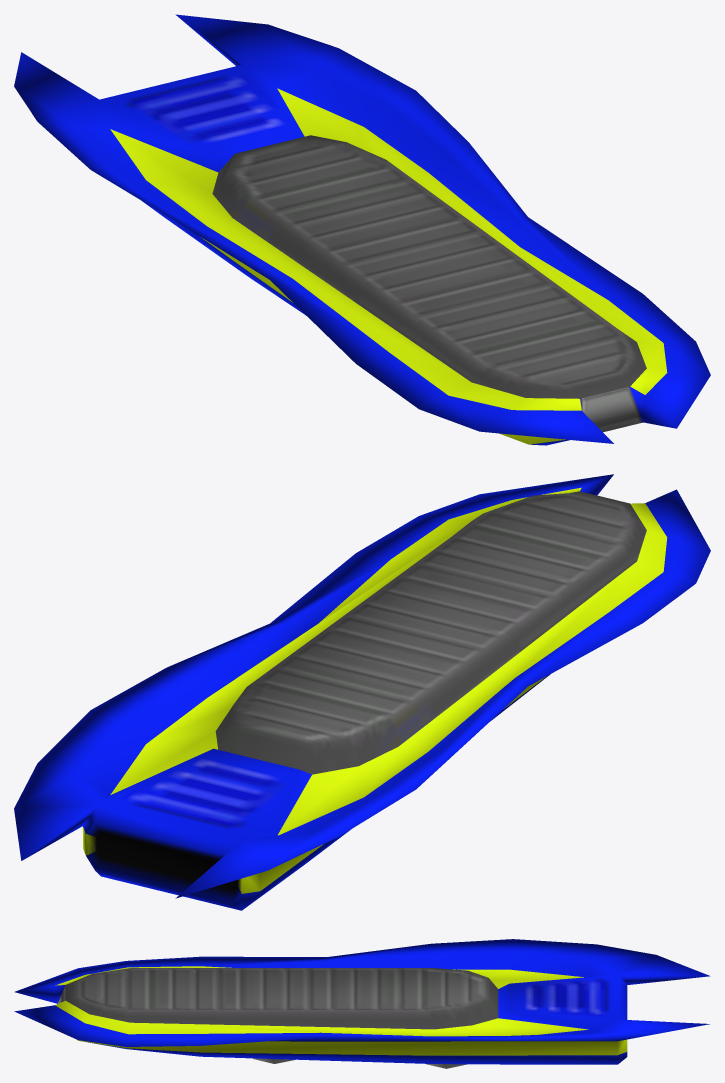
Rendered from Blue Star.obj.
The picture shows the model from 3 angles, top to bottom: view 1: azimuth 30°, elevation 25°; view 2: azimuth 150°, elevation 25°; view 3: azimuth 270°, elevation 25°; orthographic projection. The views are drawn at different scales.
Parts seen in each view (by area): view 1: Blue_Star; view 2: Blue_Star; view 3: Blue_Star.
Boxes of the visible parts, x1=… form: Blue_Star: x1=14, y1=14, x2=710, y2=445; Blue_Star: x1=14, y1=474, x2=710, y2=910; Blue_Star: x1=14, y1=939, x2=710, y2=1068.
Size of the model in its own units: 0.5876 by 0.1844 by 1.71.
